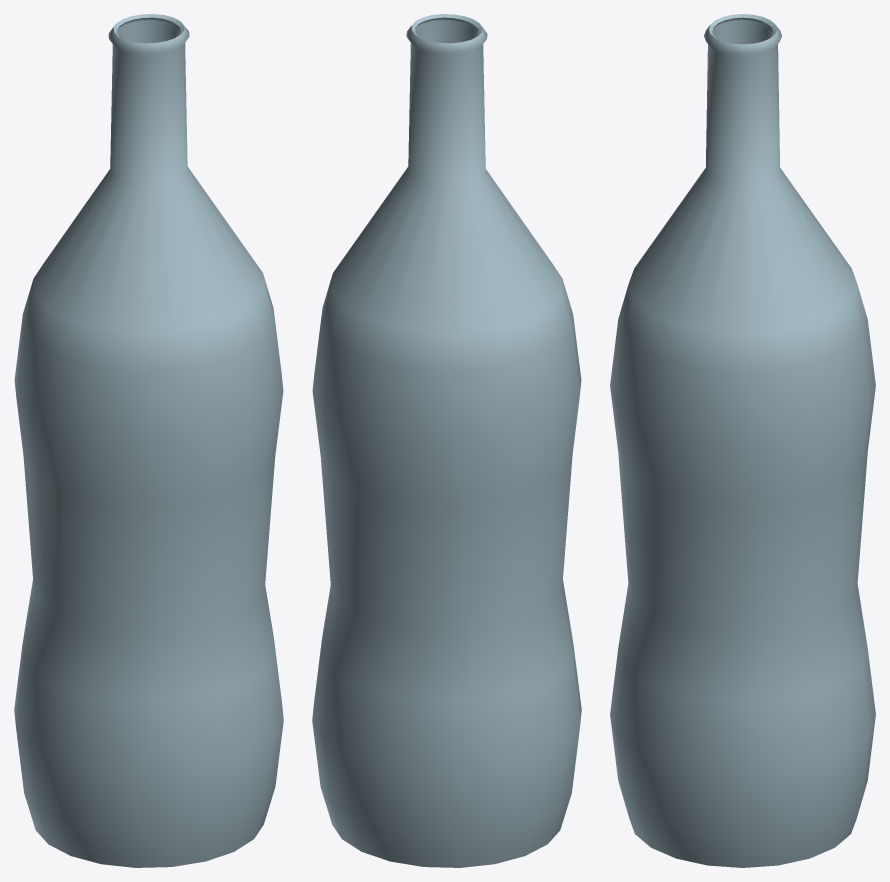
File: Botella_Low.fbx
The picture shows the model from 3 angles, left to right: view 1: azimuth 30°, elevation 25°; view 2: azimuth 150°, elevation 25°; view 3: azimuth 270°, elevation 25°; orthographic projection.
Parts seen in each view (by area): view 1: pCylinder1; view 2: pCylinder1; view 3: pCylinder1.
Boxes of the visible parts, x1,y1,x2,y2 form: pCylinder1: (14,14,283,867); pCylinder1: (312,14,581,867); pCylinder1: (610,14,875,867).
Bounding box in the file's own units: 12.8 × 40.94 × 12.49.
